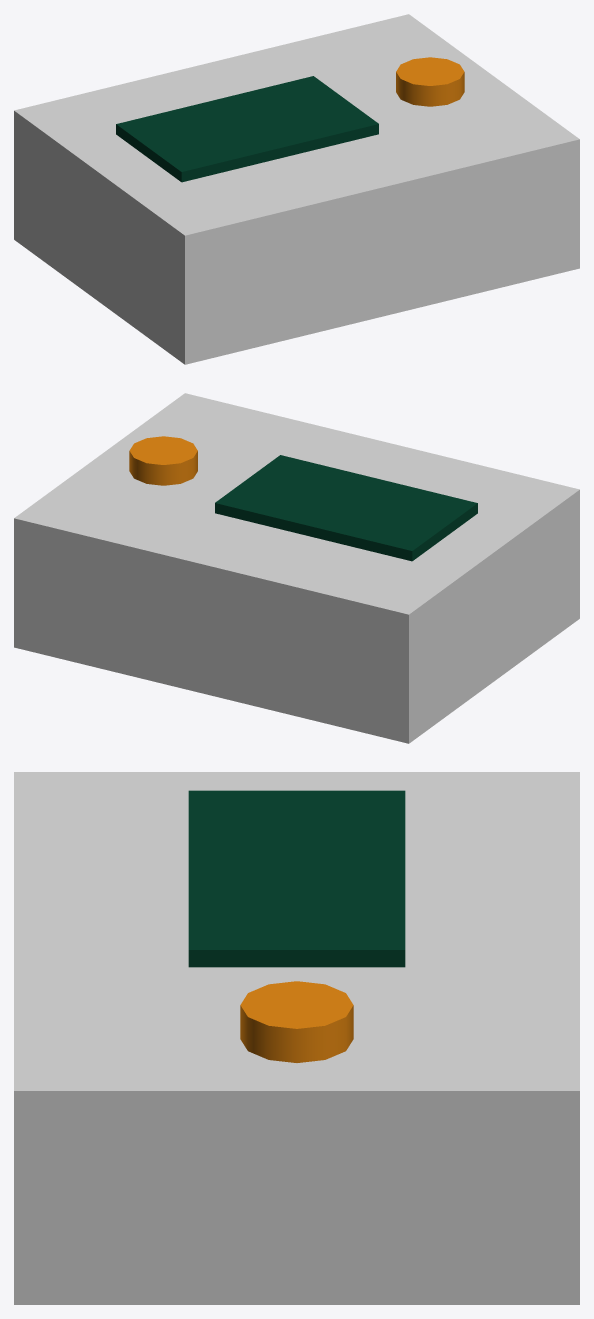
Rendered from R5_data_recorder.glb.
3 views of the same model, one above another, from view 1: azimuth 30°, elevation 25°; view 2: azimuth 150°, elevation 25°; view 3: azimuth 270°, elevation 25° (orthographic). The views are drawn at different scales.
Visible parts, largest first — view 1: recorder_white, display_darkgreen, record-button_amber; view 2: recorder_white, display_darkgreen, record-button_amber; view 3: recorder_white, display_darkgreen, record-button_amber.
Boxes of the visible parts, bbox=[...] form: recorder_white: bbox=[14, 14, 579, 364]; display_darkgreen: bbox=[116, 76, 378, 182]; record-button_amber: bbox=[396, 57, 464, 106]; recorder_white: bbox=[14, 393, 579, 743]; display_darkgreen: bbox=[215, 455, 477, 561]; record-button_amber: bbox=[129, 436, 197, 485]; recorder_white: bbox=[14, 772, 579, 1304]; display_darkgreen: bbox=[188, 790, 405, 967]; record-button_amber: bbox=[240, 981, 353, 1062].
Size of the model in its own units: 0.8 by 0.29 by 0.6.
